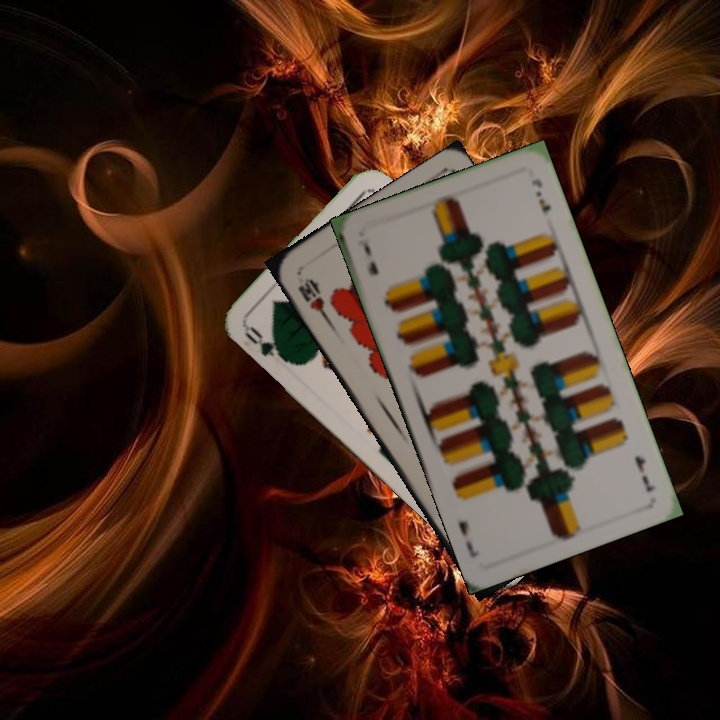E7: (630, 451, 658, 495), (353, 235, 381, 278)
GO: (240, 322, 293, 366)
H10: (294, 274, 332, 323)
